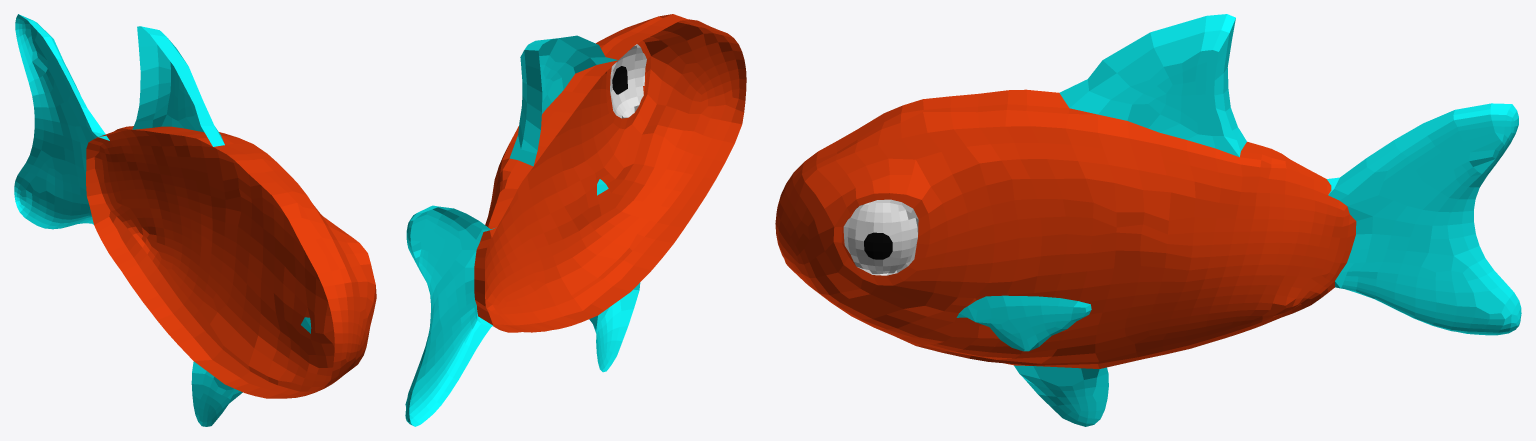
The model's file is fish.glb.
3 views of the same model, side by side, from view 1: azimuth 30°, elevation 25°; view 2: azimuth 150°, elevation 25°; view 3: azimuth 270°, elevation 25° (orthographic). The views are drawn at different scales.
Visible parts, largest first — view 1: Cube; view 2: Cube; view 3: Cube.
Part boxes in pixels (box(x1,y1,x2,y2)): Cube: box(14, 14, 376, 426); Cube: box(405, 14, 746, 426); Cube: box(775, 14, 1521, 426).
Bounding box in the file's own units: 0.4654 × 1.92 × 3.15.
1 material, 1 textured.
